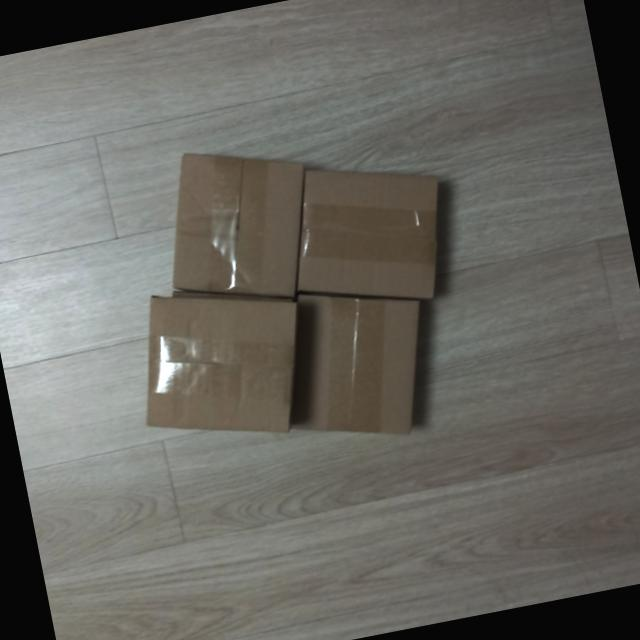box: (144, 296, 296, 433), (170, 153, 303, 297), (298, 169, 442, 299), (292, 294, 421, 434)
